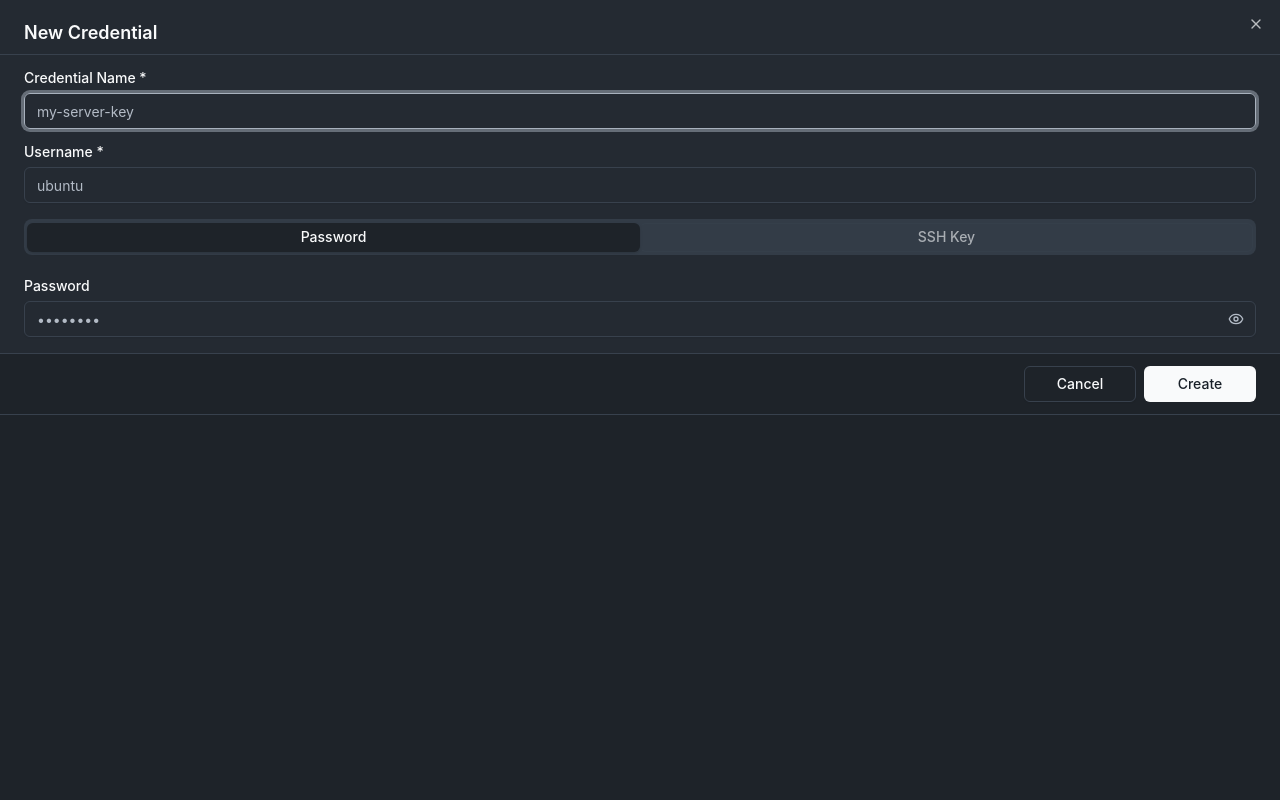
Test: CredentialForm Browse private key button › clears the inline 'Private key path is required' error after a pick
Type "n" into the field labelled "Credential Name *" at x=640, y=111, box [24,93,1256,129]
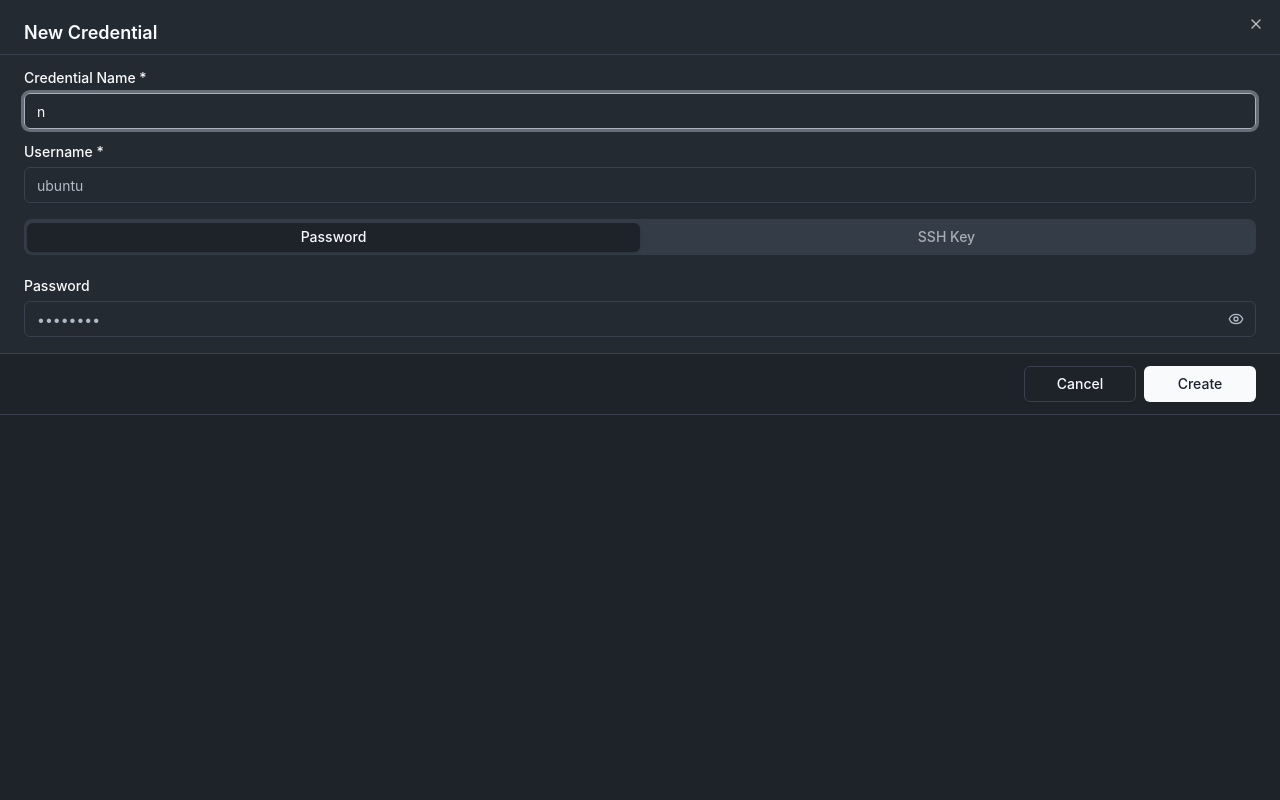
Type "u" into the field labelled "Username *" at x=640, y=185, box [24,167,1256,203]
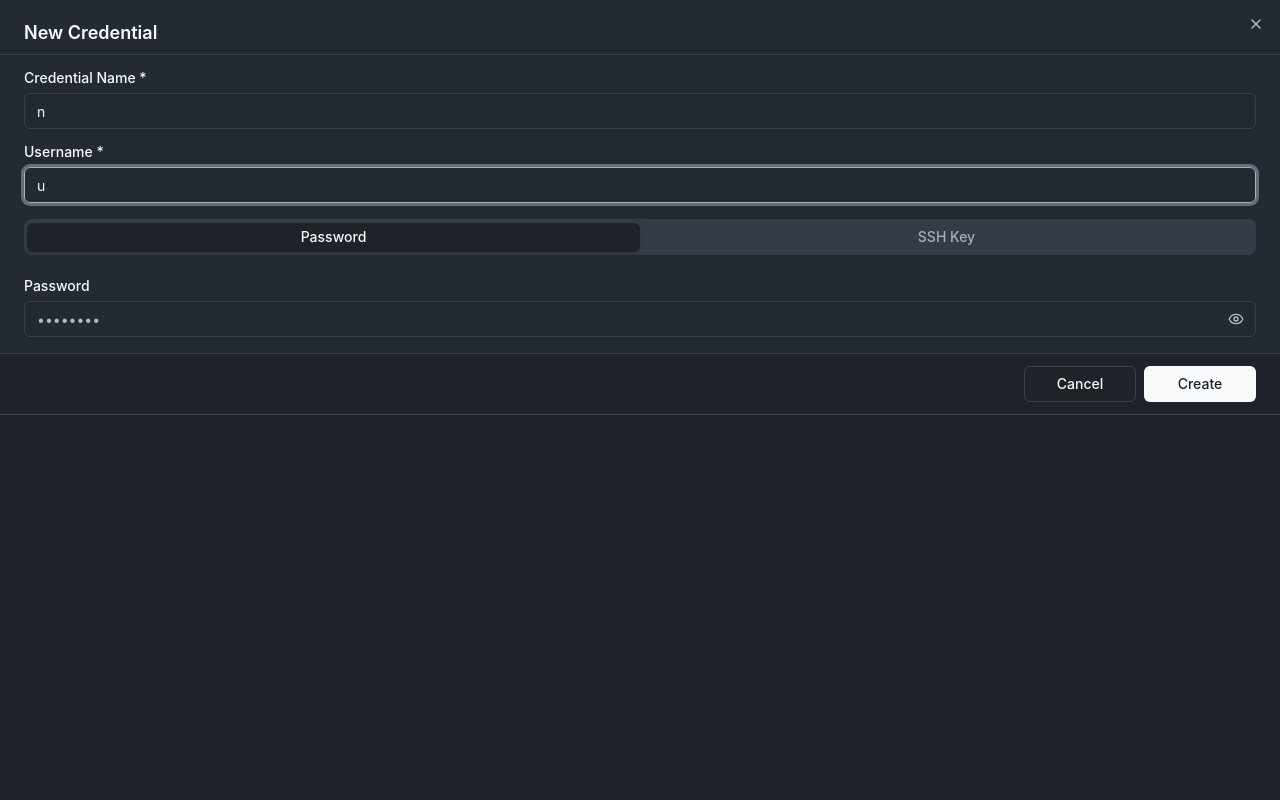
Click the tab "SSH Key" at x=946, y=237, box [640,222,1253,252]
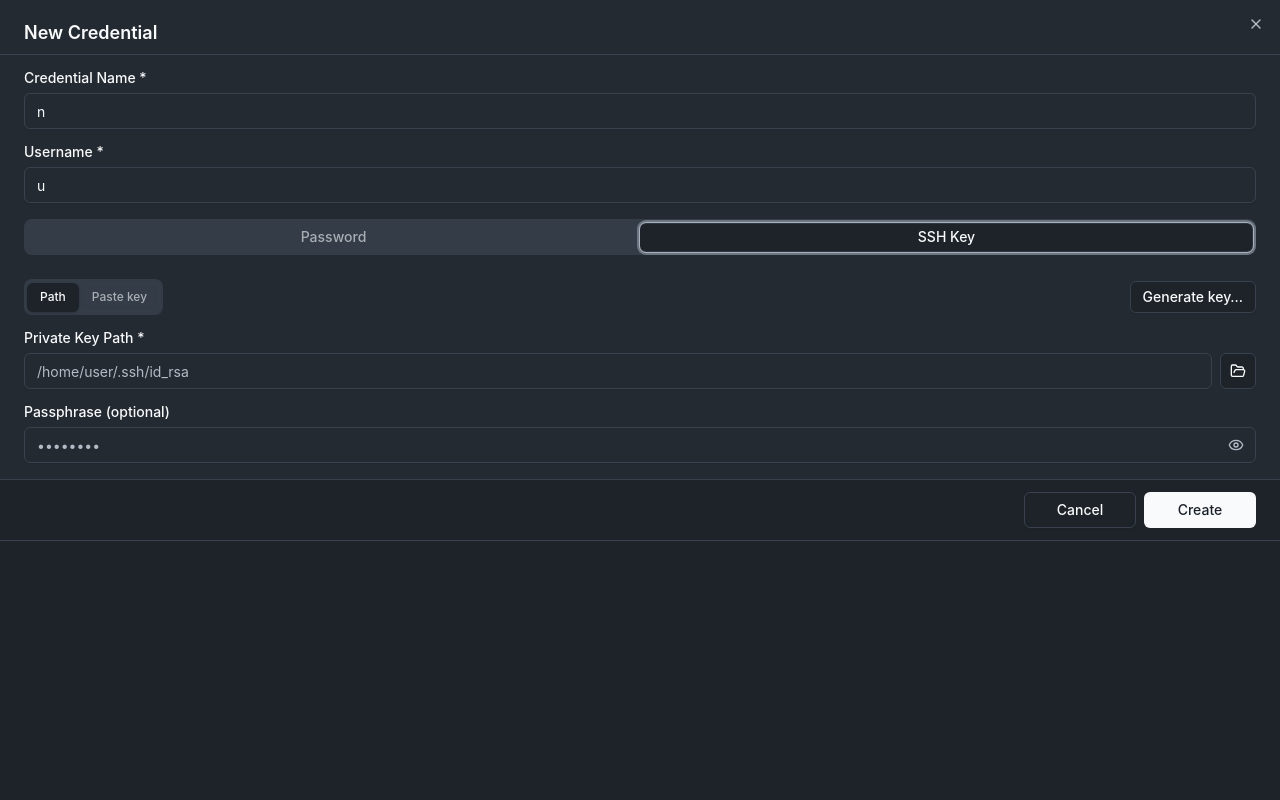
Note: Trigger validation while the path is empty.
Click the button "Create" at x=1200, y=510, box [1144,492,1256,528]
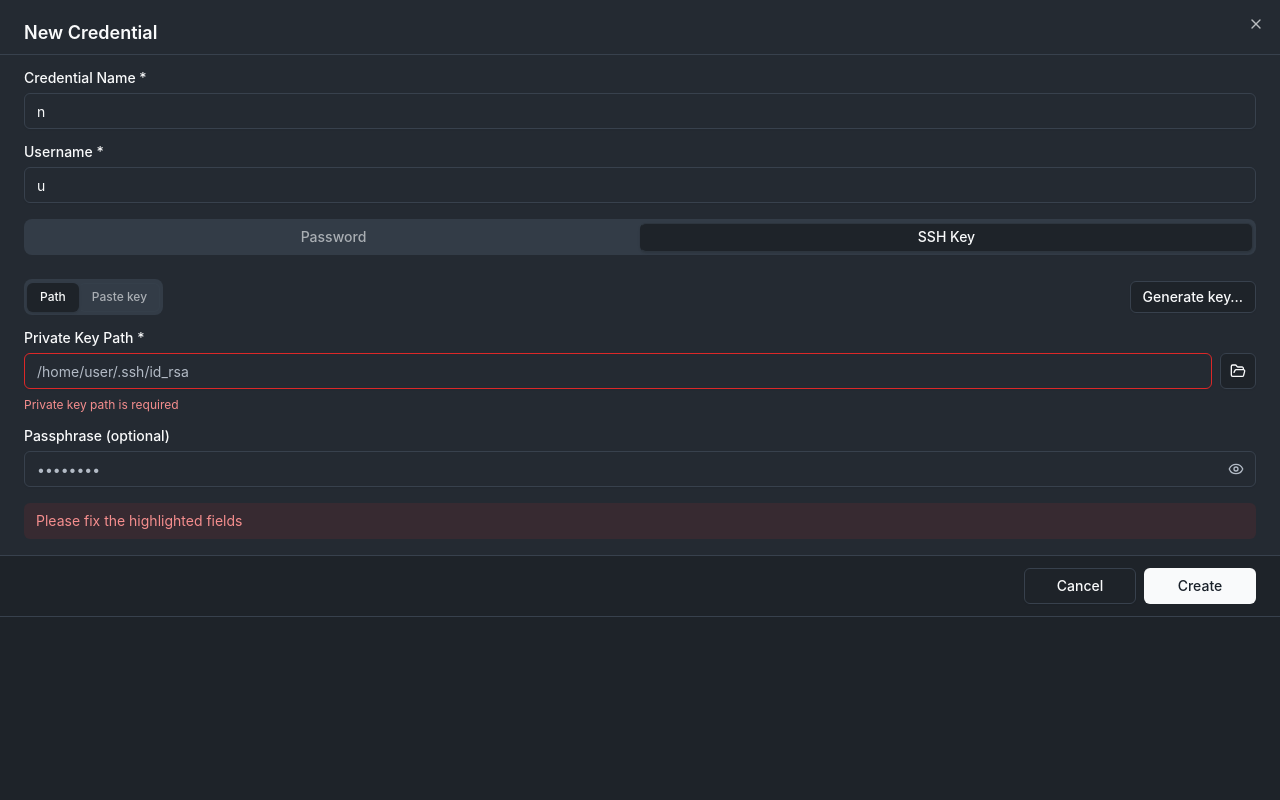
Check: the text "Private key path is required" is shown, box [24,397,178,412]
Note: Pick a file — the inline error should disappear.
Click the button named "browse for private key file" at x=1238, y=371, box [1220,353,1256,389]
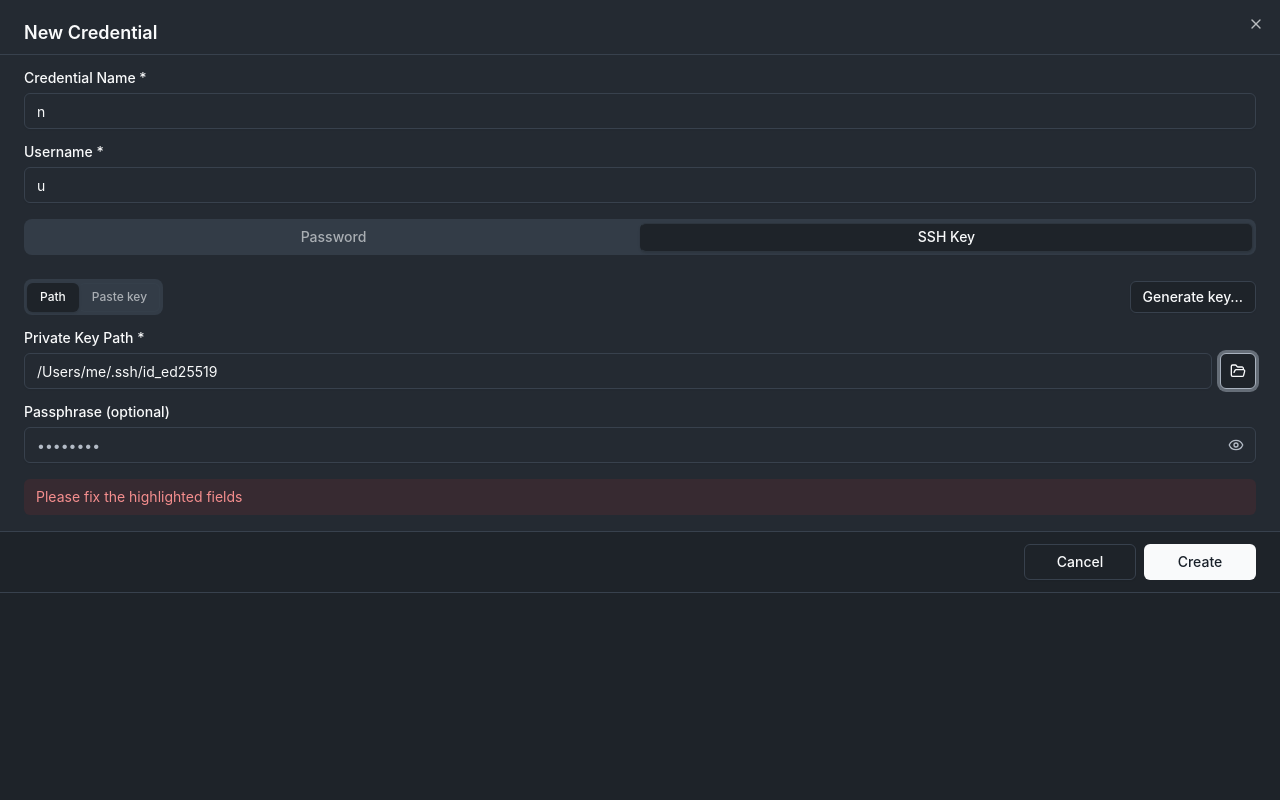
Check: the text "Private key path is required" is gone
